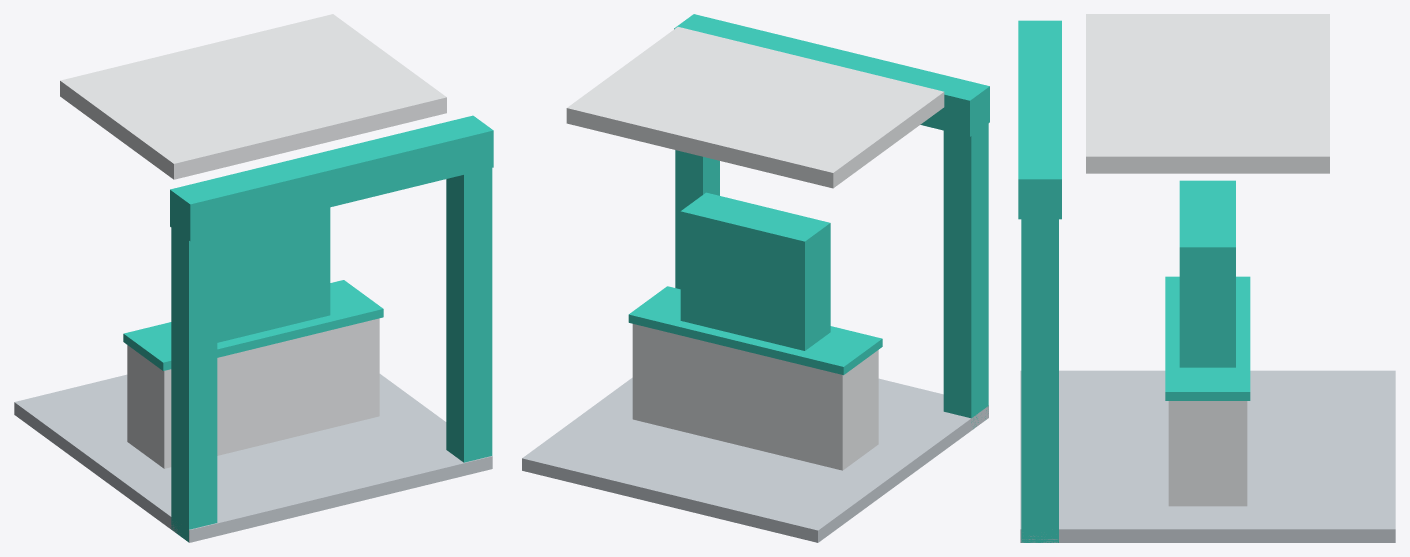
3 views of the same model, side by side, from view 1: azimuth 30°, elevation 25°; view 2: azimuth 150°, elevation 25°; view 3: azimuth 270°, elevation 25° (orthographic). The views are drawn at different scales.
Visible parts, largest first — view 1: Exhibition Booth Concept; view 2: Exhibition Booth Concept; view 3: Exhibition Booth Concept.
Part boxes in pixels (x1,y1,x2,y2): Exhibition Booth Concept: [14, 14, 493, 542]; Exhibition Booth Concept: [522, 14, 989, 542]; Exhibition Booth Concept: [1018, 14, 1395, 542].
Size of the model in its own units: 3 by 3.34 by 3.01.
